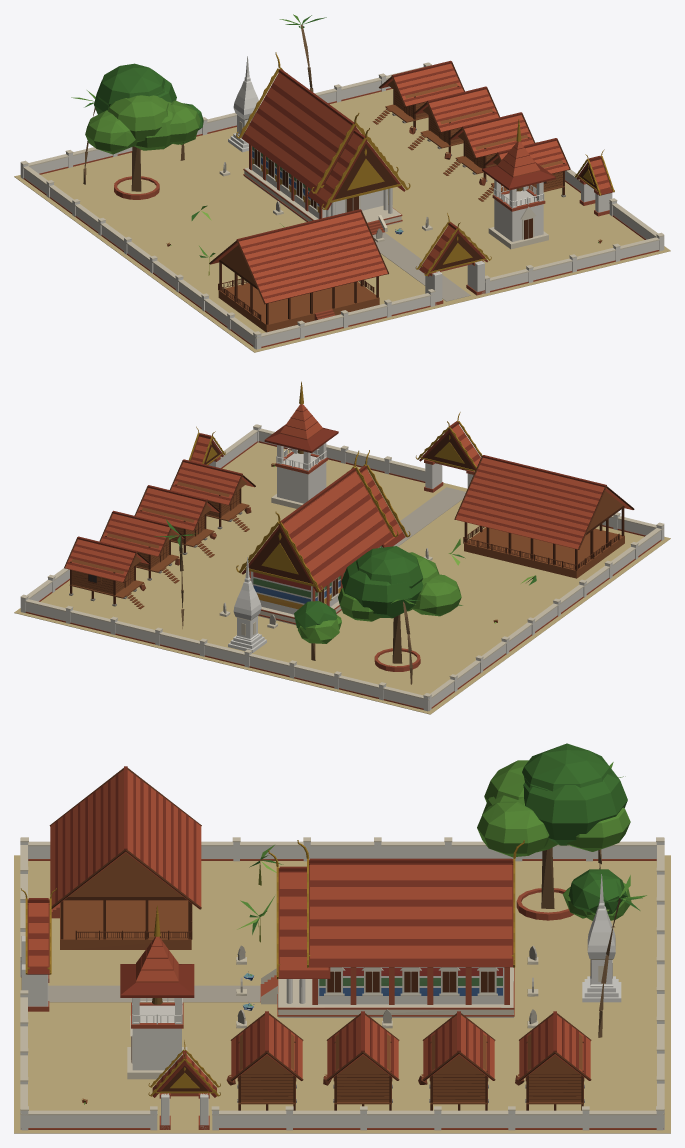
The model's file is temple_2.glb.
3 views of the same model, one above another, from view 1: azimuth 30°, elevation 25°; view 2: azimuth 150°, elevation 25°; view 3: azimuth 270°, elevation 25° (orthographic). The views are drawn at different scales.
Parts seen in each view (by area): view 1: body; view 2: body; view 3: body.
Boxes of the visible parts, x1=… form: body: x1=14, y1=14, x2=670, y2=352; body: x1=14, y1=381, x2=670, y2=714; body: x1=14, y1=743, x2=670, y2=1133.
Bounding box in the file's own units: 47.9 × 13.26 × 47.9.
